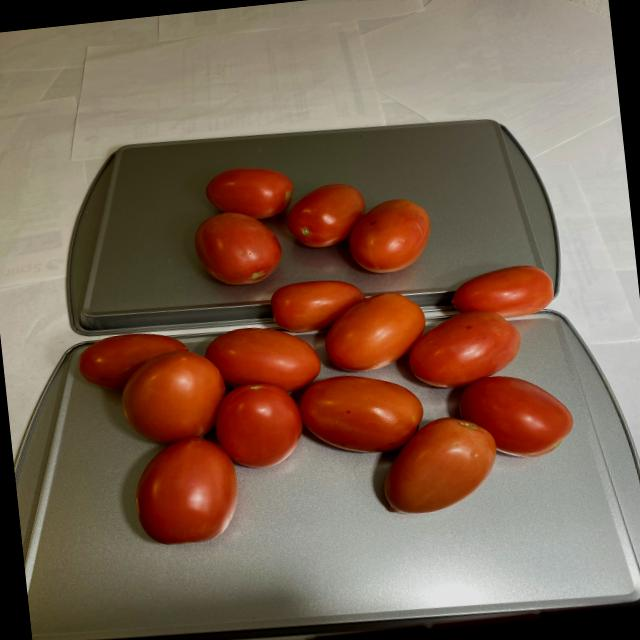tomato: (62, 139, 580, 556)
